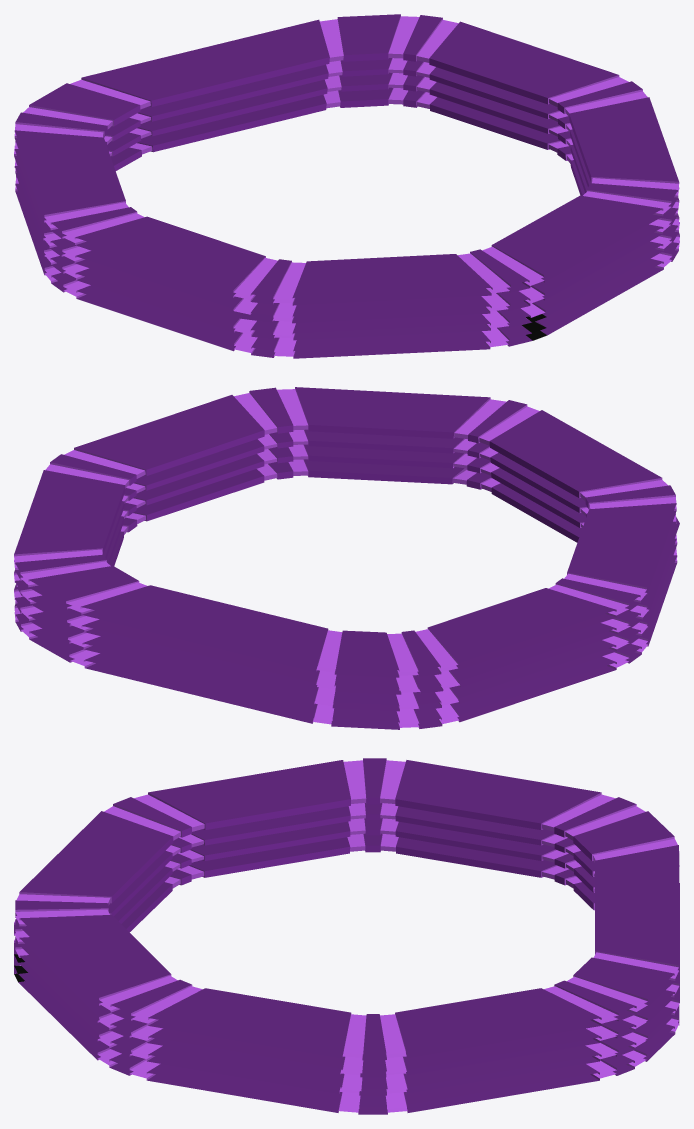
File: Cardis_rotate.fbx
3 renders of one model, top to bottom at view 1: azimuth 30°, elevation 25°; view 2: azimuth 150°, elevation 25°; view 3: azimuth 270°, elevation 25°, orthographic. The views are drawn at different scales.
Parts seen in each view (by area): view 1: r3, r0, r2, r1; view 2: r3, r0, r2, r1; view 3: r3, r0, r1, r2.
Boxes of the visible parts, <box> form: r3: <box>14,14,679,305</box>; r0: <box>15,87,679,358</box>; r2: <box>14,58,679,323</box>; r1: <box>14,72,679,340</box>; r3: <box>14,387,676,677</box>; r0: <box>14,459,677,729</box>; r2: <box>14,429,679,694</box>; r1: <box>14,444,677,711</box>; r3: <box>15,758,679,1060</box>; r0: <box>14,833,679,1114</box>; r1: <box>14,818,679,1095</box>; r2: <box>14,803,679,1077</box>.
Bounding box in the file's own units: 1096 × 109 × 1047.
